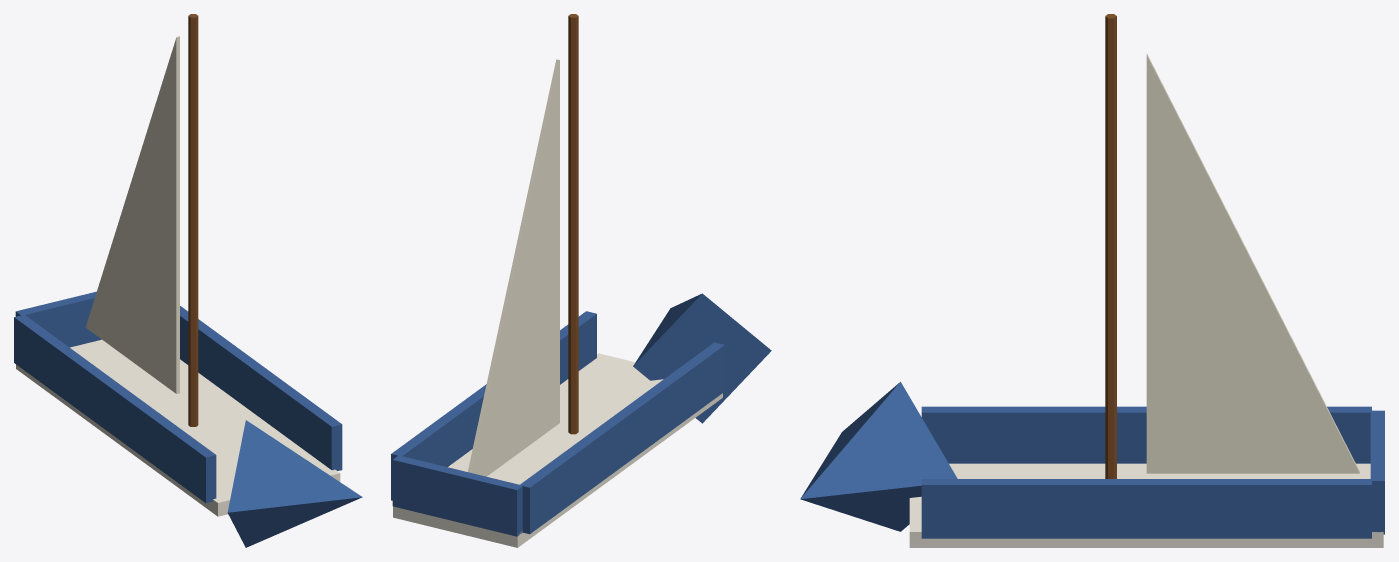
The model's file is town_sailboat.glb.
3 renders of one model, left to right at view 1: azimuth 30°, elevation 25°; view 2: azimuth 150°, elevation 25°; view 3: azimuth 270°, elevation 25°, orthographic. The views are drawn at different scales.
Visible parts, largest first — view 1: sailboat; view 2: sailboat; view 3: sailboat.
Boxes of the visible parts, x1,y1,x2,y2 form: sailboat: [14, 14, 362, 547]; sailboat: [391, 14, 771, 547]; sailboat: [800, 14, 1384, 547].
Size of the model in its own units: 1.7 by 5 by 4.93.
